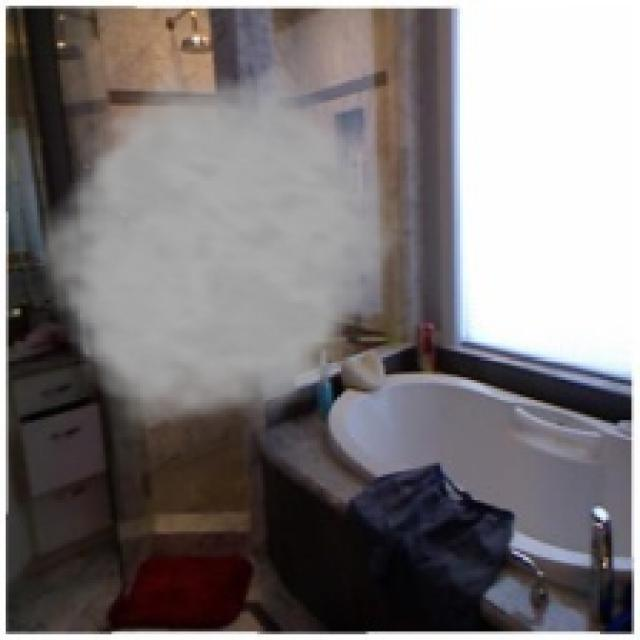Smoke: (26, 63, 414, 443)
